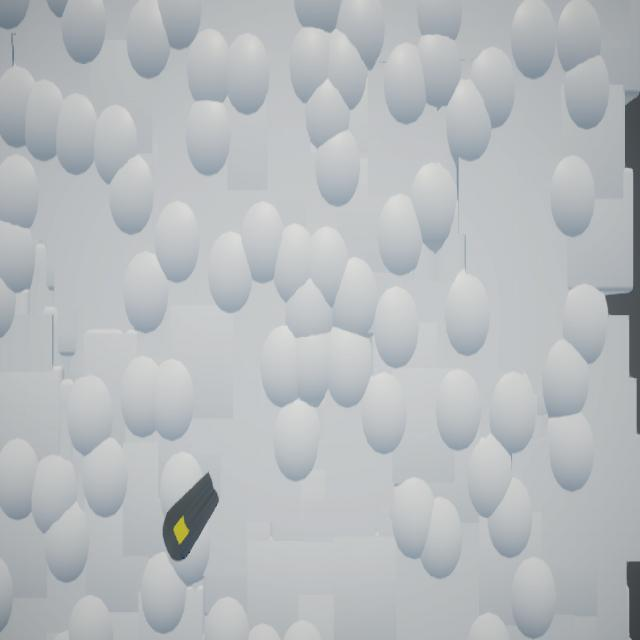handle_folk: (164, 473, 221, 563)
